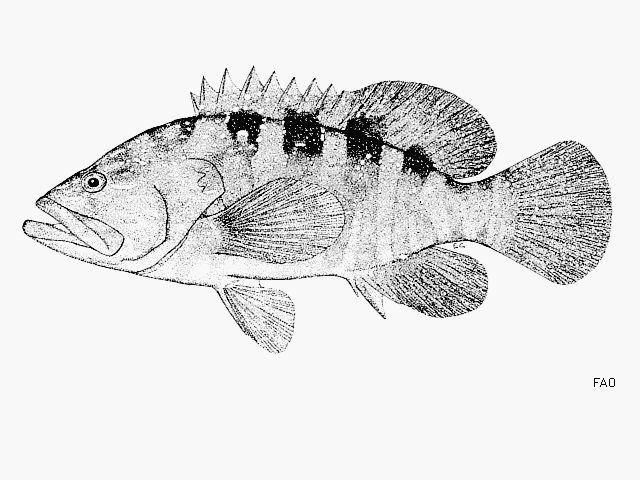fish: (22, 65, 611, 355)
